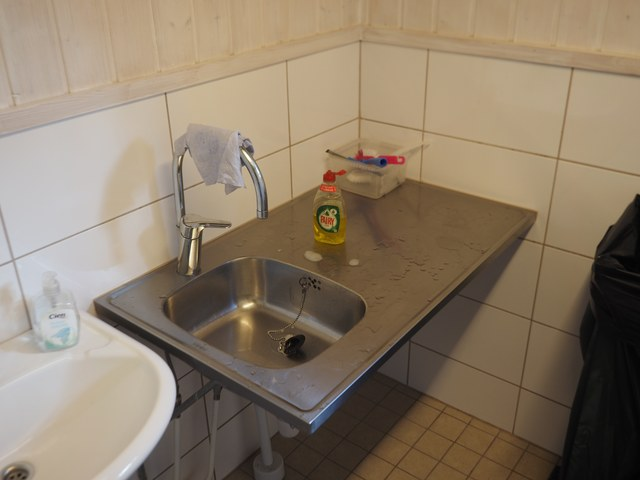Harpic Floor Cleaner: (32, 24, 608, 456)
